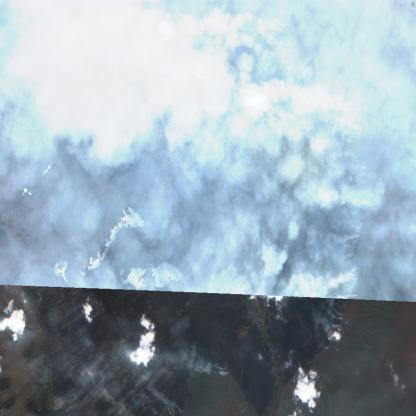fire: (230, 10, 384, 361)
